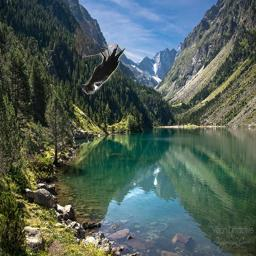Crow: (82, 44, 127, 95)
